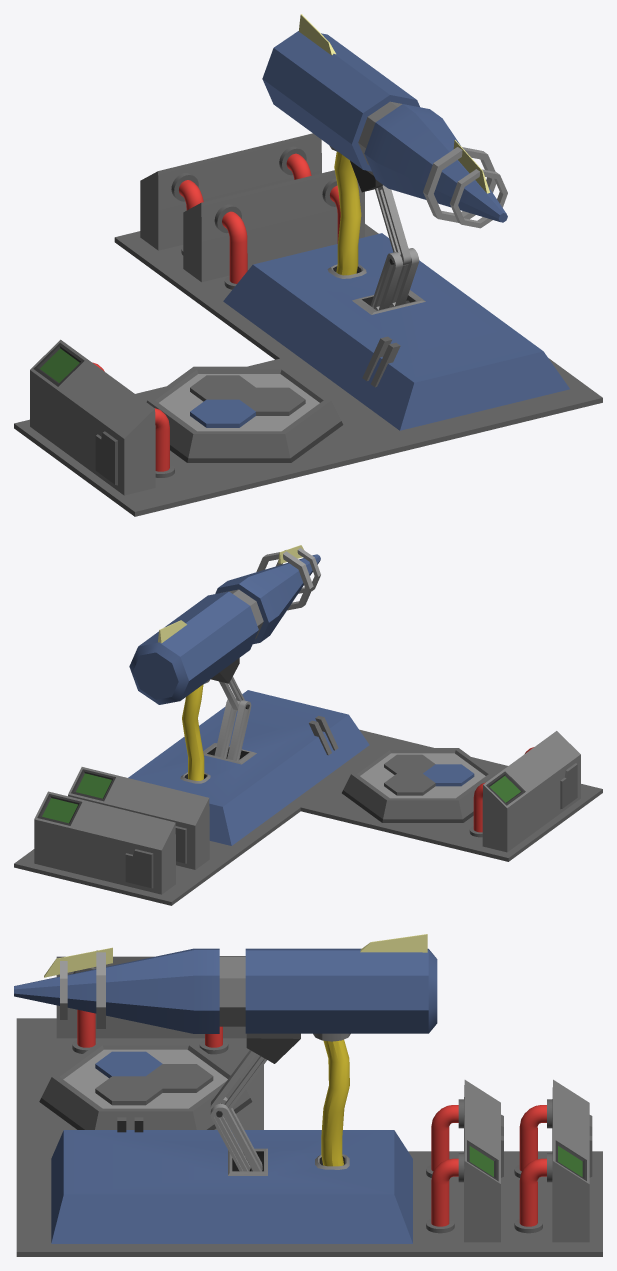
File: laserSize3L.glb
3 views of the same model, one above another, from view 1: azimuth 30°, elevation 25°; view 2: azimuth 150°, elevation 25°; view 3: azimuth 270°, elevation 25° (orthographic). The views are drawn at different scales.
Parts seen in each view (by area): view 1: Laser Size 3 L; view 2: Laser Size 3 L; view 3: Laser Size 3 L.
Part boxes in pixels (left/top/right/bottom): Laser Size 3 L: left=14, top=14, right=602, bottom=516; Laser Size 3 L: left=14, top=545, right=602, bottom=905; Laser Size 3 L: left=14, top=934, right=602, bottom=1256.
Size of the model in its own units: 1.8 by 0.9759 by 1.91.
